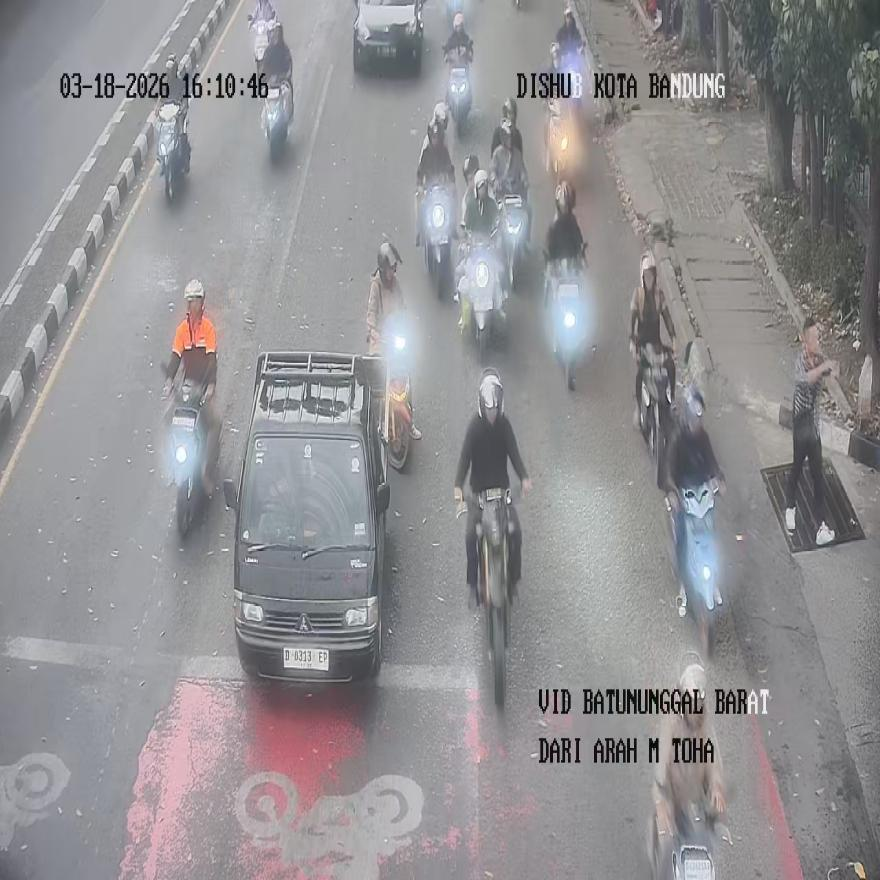Motor: (223, 352, 390, 682)
Truk: (667, 479, 722, 655), (476, 488, 514, 706), (168, 376, 216, 536), (646, 797, 729, 880), (458, 227, 502, 366), (635, 344, 674, 486), (376, 328, 415, 470), (551, 269, 586, 390), (418, 185, 454, 298), (155, 104, 190, 203), (500, 193, 529, 293), (261, 77, 291, 161), (250, 8, 274, 98), (447, 48, 472, 134), (545, 100, 569, 182)
